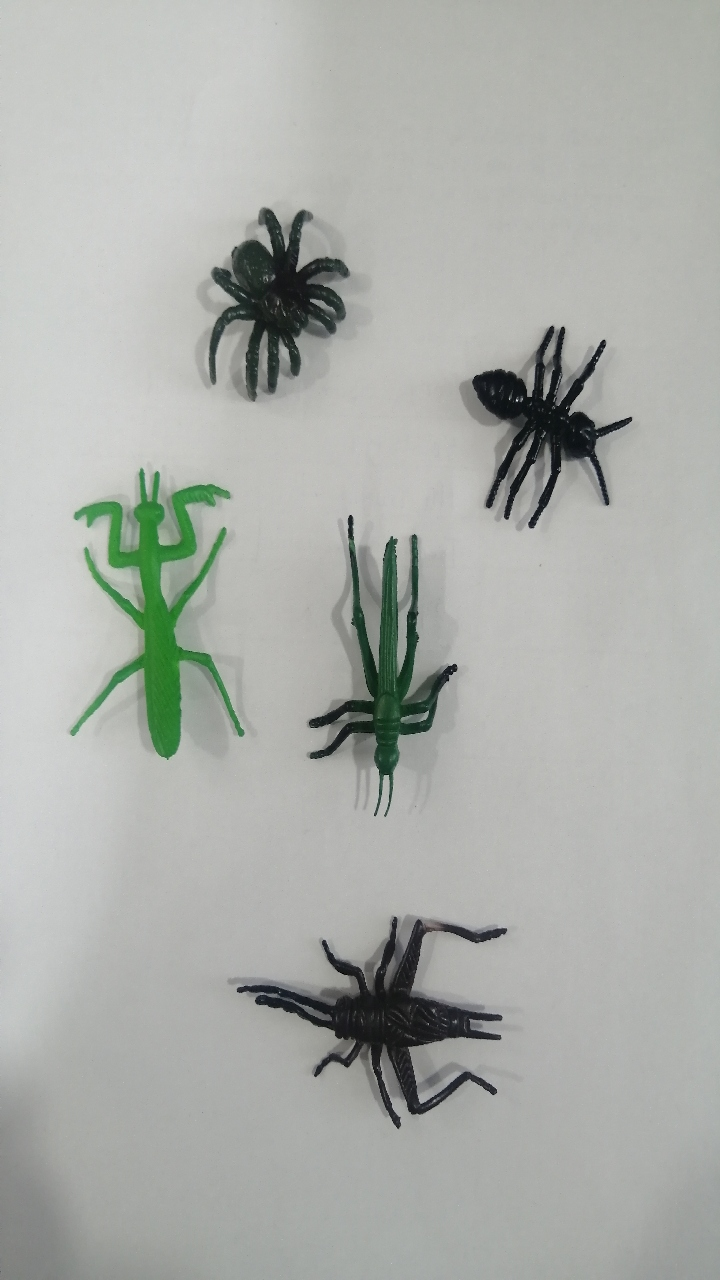intruso: (184, 888, 555, 1160), (29, 443, 254, 802), (281, 477, 469, 832), (452, 289, 652, 551), (166, 168, 377, 409)
